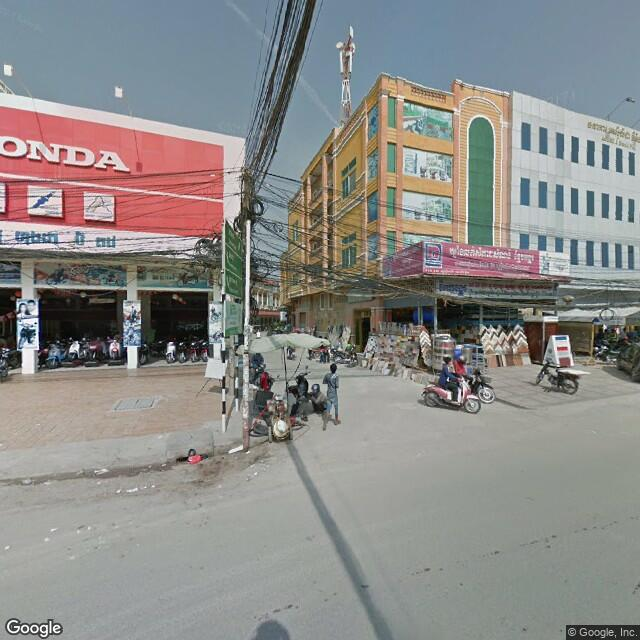litter: (87, 465, 113, 475), (183, 452, 203, 463), (21, 478, 35, 484)
